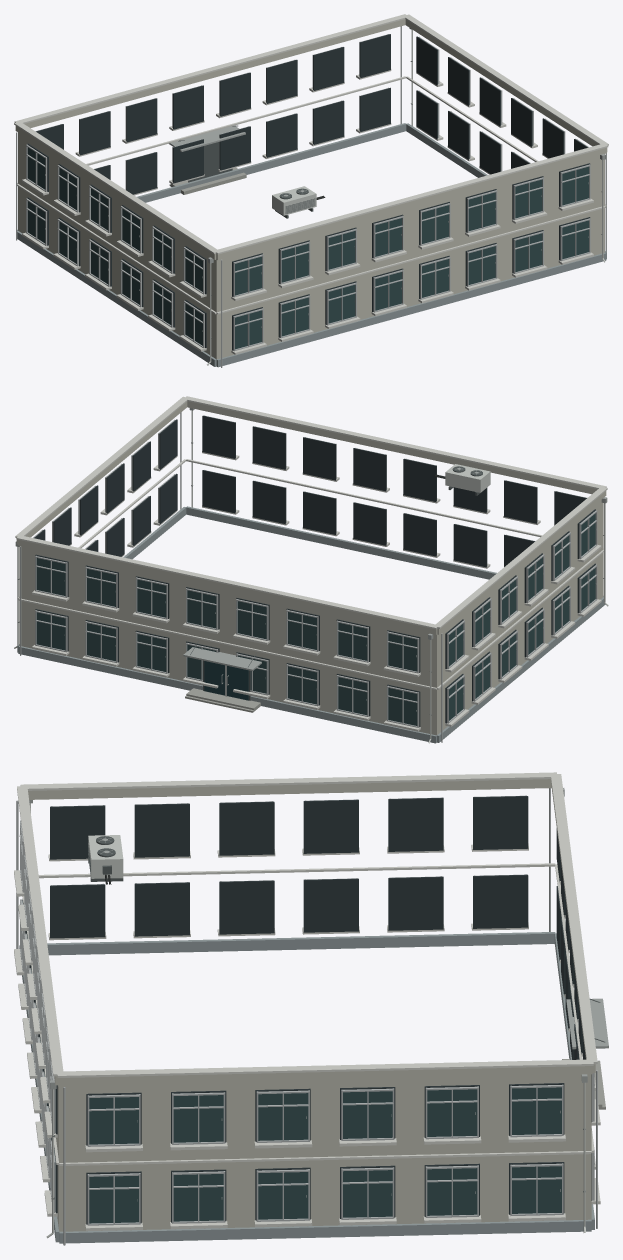
File: osm_way_224954737.glb
The picture shows the model from 3 angles, top to bottom: view 1: azimuth 30°, elevation 25°; view 2: azimuth 150°, elevation 25°; view 3: azimuth 270°, elevation 25°; orthographic projection. The views are drawn at different scales.
Visible parts, largest first — view 1: Windows and facade details | 特大教室, Architecture | 特大教室, Roof services | 特大教室, EXTERIOR::osm_way_224954737::inferred entry doors canopy and, EXTERIOR::osm_way_224954737::rainwater and roof service deta; view 2: Windows and facade details | 特大教室, Architecture | 特大教室, Roof services | 特大教室, EXTERIOR::osm_way_224954737::inferred entry doors canopy and, EXTERIOR::osm_way_224954737::rainwater and roof service deta; view 3: Windows and facade details | 特大教室, Architecture | 特大教室, Roof services | 特大教室, EXTERIOR::osm_way_224954737::rainwater and roof service deta, EXTERIOR::osm_way_224954737::inferred entry doors canopy and.
Part boxes in pixels (<box>): Windows and facade details | 特大教室: <box>16,26,606,367</box>; Architecture | 特大教室: <box>15,19,607,367</box>; Roof services | 特大教室: <box>14,14,608,254</box>; EXTERIOR::osm_way_224954737::inferred entry doors canopy and: <box>169,125,246,194</box>; EXTERIOR::osm_way_224954737::rainwater and roof service deta: <box>207,28,605,365</box>; Windows and facade details | 特大教室: <box>20,412,601,742</box>; Architecture | 特大教室: <box>16,401,606,743</box>; Roof services | 特大教室: <box>15,396,607,629</box>; EXTERIOR::osm_way_224954737::inferred entry doors canopy and: <box>183,641,261,712</box>; EXTERIOR::osm_way_224954737::rainwater and roof service deta: <box>14,408,608,743</box>; Windows and facade details | 特大教室: <box>14,788,600,1245</box>; Architecture | 特大教室: <box>19,779,595,1243</box>; Roof services | 特大教室: <box>17,772,597,1077</box>; EXTERIOR::osm_way_224954737::rainwater and roof service deta: <box>29,788,587,1238</box>; EXTERIOR::osm_way_224954737::inferred entry doors canopy and: <box>562,998,608,1109</box>.
Size of the model in its own units: 31.62 by 8.98 by 25.99.
